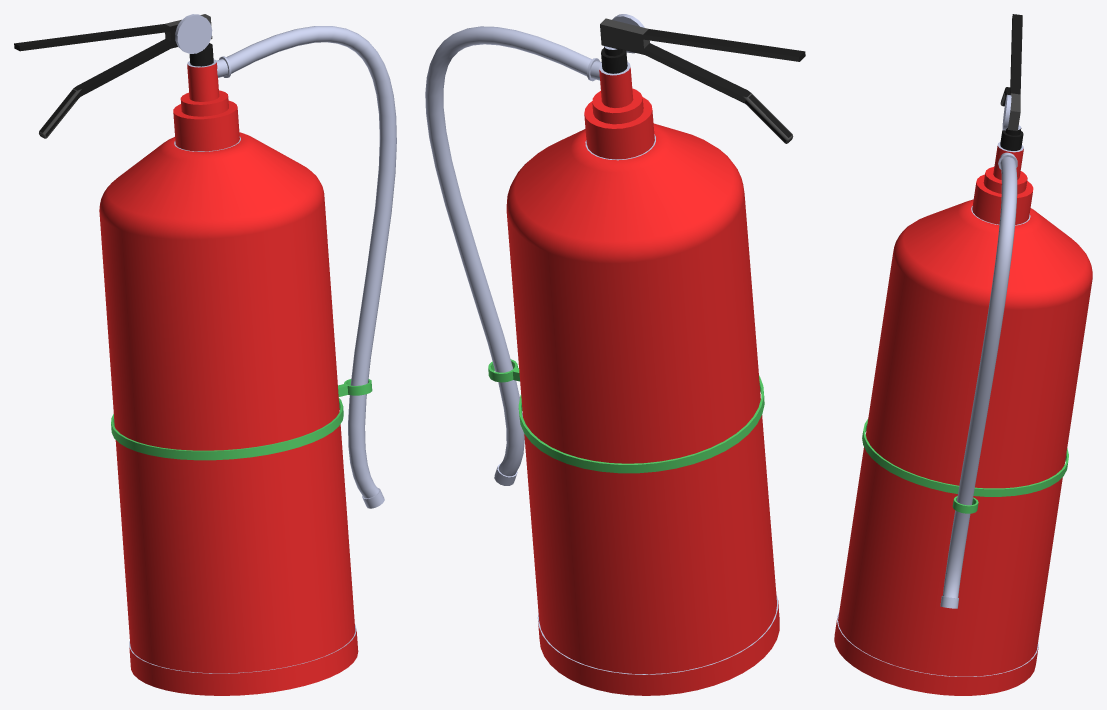
File: 灭火器.obj
The picture shows the model from 3 angles, left to right: view 1: azimuth 30°, elevation 25°; view 2: azimuth 150°, elevation 25°; view 3: azimuth 270°, elevation 25°; orthographic projection. The views are drawn at different scales.
Parts seen in each view (by area): view 1: BRep_2, BRep_1; view 2: BRep_2, BRep_1; view 3: BRep_2, BRep_1.
Boxes of the visible parts, left/top/right/bottom form: BRep_2: left=14, top=14, right=396, bottom=695; BRep_1: left=111, top=379, right=372, bottom=460; BRep_2: left=425, top=14, right=805, bottom=695; BRep_1: left=488, top=359, right=764, bottom=473; BRep_2: left=834, top=14, right=1092, bottom=695; BRep_1: left=862, top=418, right=1068, bottom=513.
Size of the model in its own units: 89.96 by 150 by 61.57.
